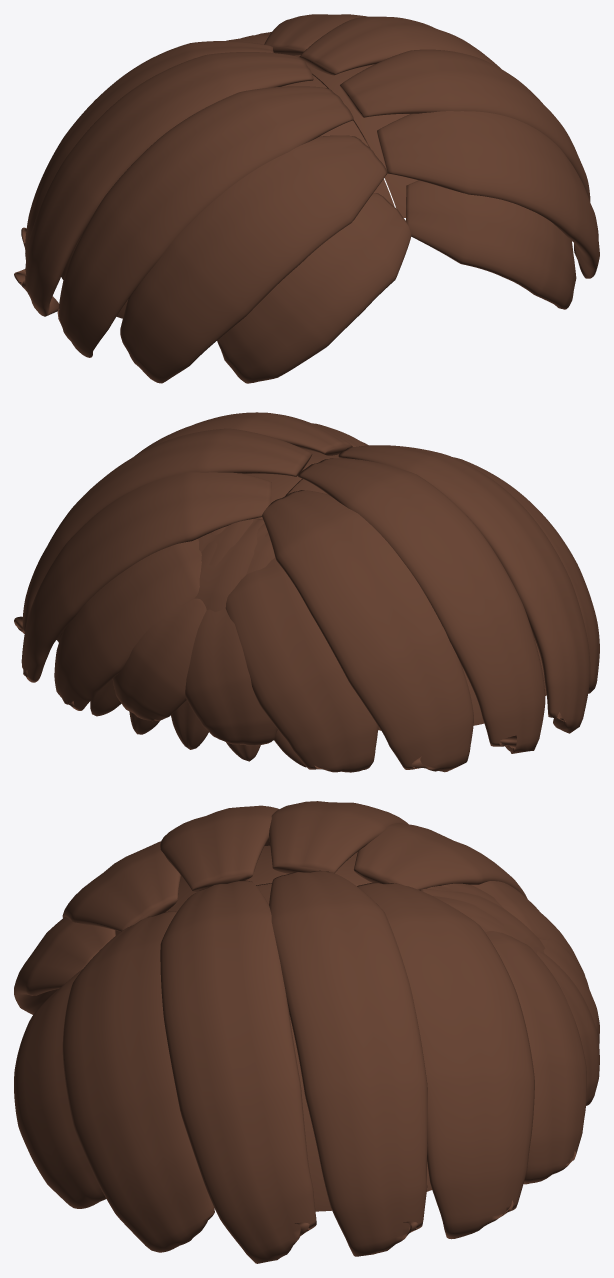
File: Masculine-middle-part-hair260.glb
The picture shows the model from 3 angles, top to bottom: view 1: azimuth 30°, elevation 25°; view 2: azimuth 150°, elevation 25°; view 3: azimuth 270°, elevation 25°; orthographic projection. The views are drawn at different scales.
Parts seen in each view (by area): view 1: 226 hair / Hair260 / layered middle-part; view 2: 226 hair / Hair260 / layered middle-part; view 3: 226 hair / Hair260 / layered middle-part.
Part boxes in pixels (x1,y1,x2,y2): 226 hair / Hair260 / layered middle-part: (14,14,599,383); 226 hair / Hair260 / layered middle-part: (14,412,599,772); 226 hair / Hair260 / layered middle-part: (14,801,599,1263).
Bounding box in the file's own units: 1.03 × 0.4519 × 0.8741.
